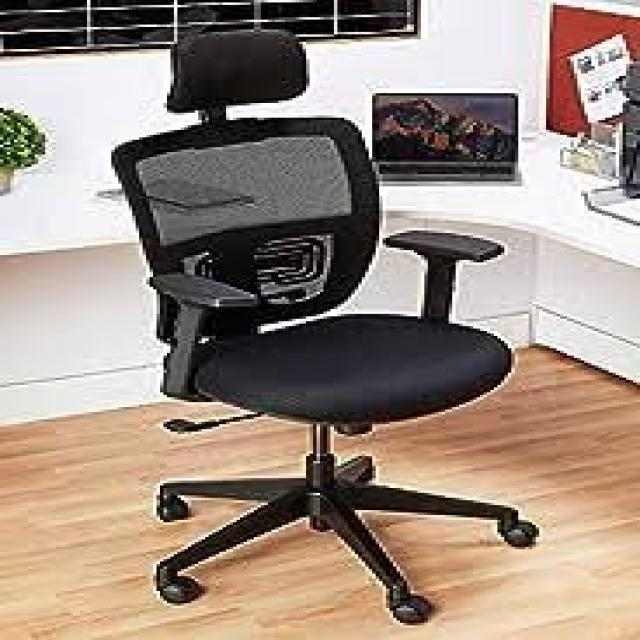chair: (0, 14, 606, 639)
